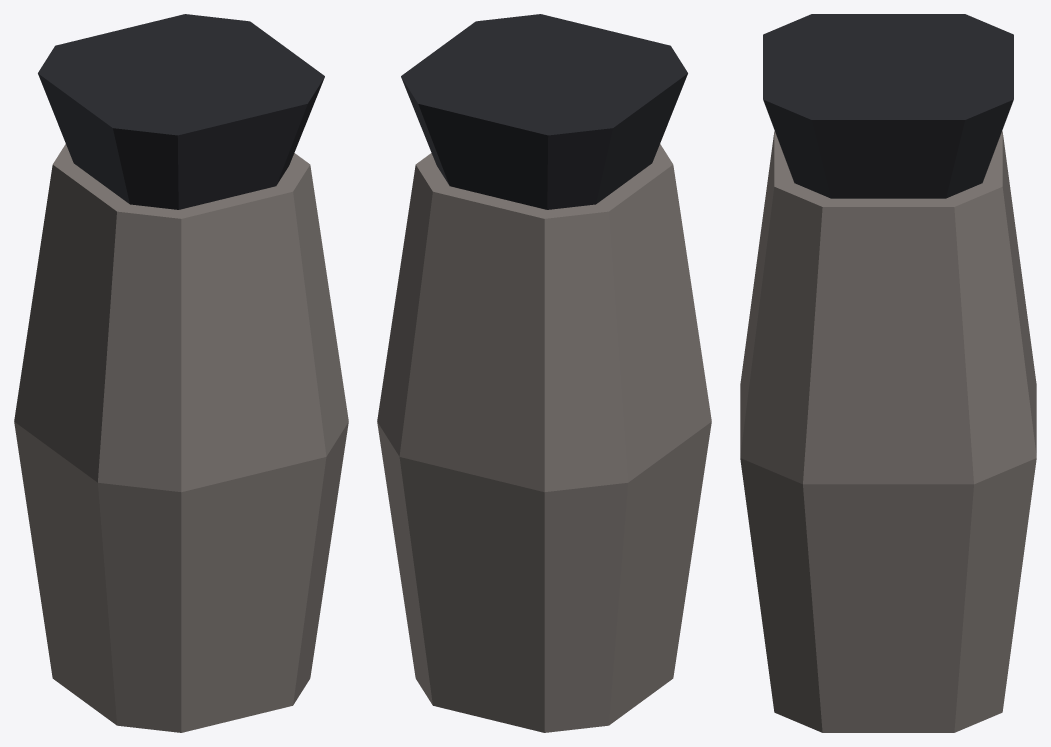
Rendered from SM_Seasonings_03.glb.
The picture shows the model from 3 angles, left to right: view 1: azimuth 30°, elevation 25°; view 2: azimuth 150°, elevation 25°; view 3: azimuth 270°, elevation 25°; orthographic projection. The views are drawn at different scales.
Parts seen in each view (by area): view 1: SM_Seasonings_03; view 2: SM_Seasonings_03; view 3: SM_Seasonings_03.
Boxes of the visible parts, x1,y1,x2,y2 form: SM_Seasonings_03: [14, 14, 348, 732]; SM_Seasonings_03: [377, 14, 711, 732]; SM_Seasonings_03: [740, 14, 1036, 732].
Bounding box in the file's own units: 0.0429 × 0.0986 × 0.0429.
Materials: 1 (1 with a texture image).
